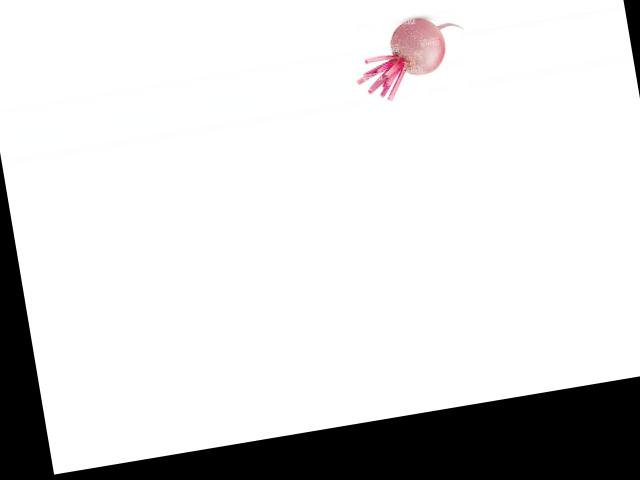beet: (347, 11, 472, 105)
